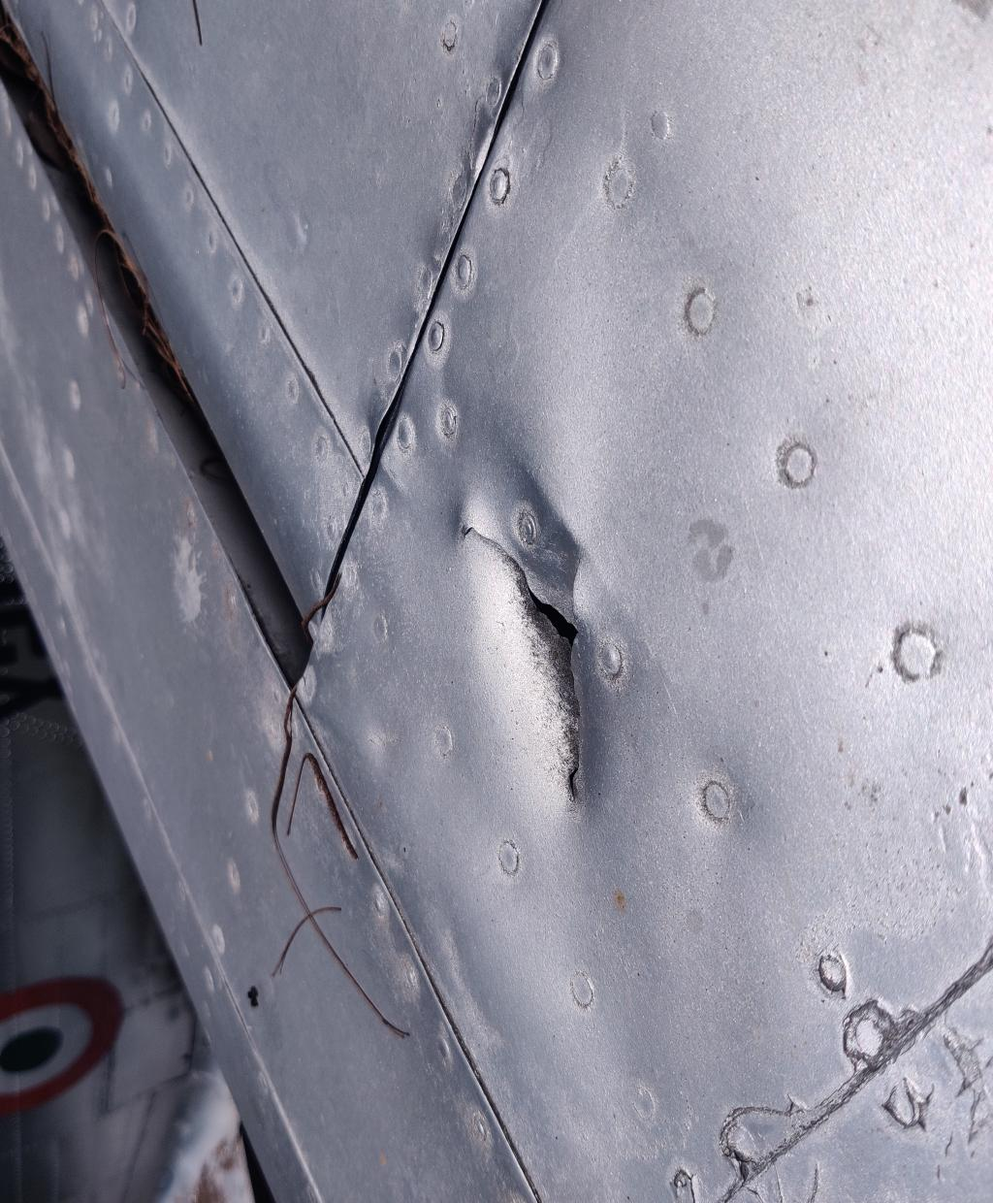crack: (271, 505, 645, 770)
